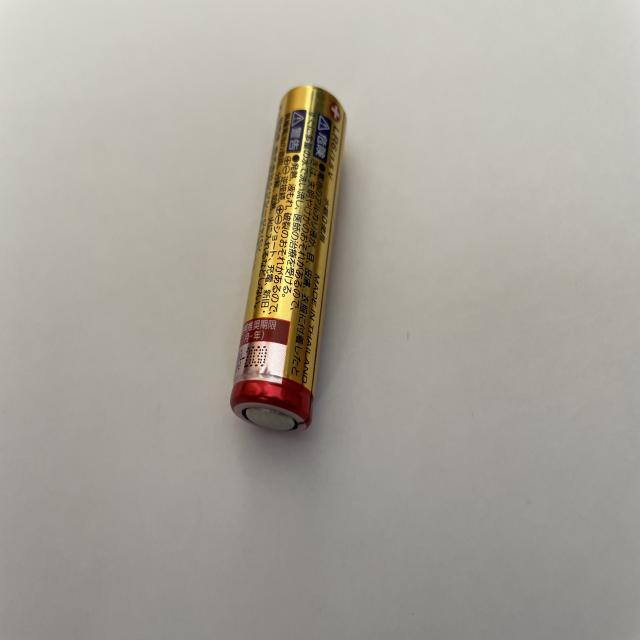hazardous waste: (229, 82, 348, 442)
